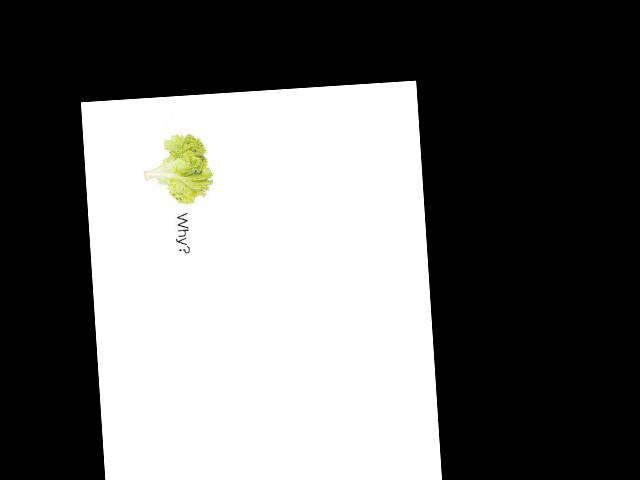lettuce: (135, 128, 223, 247)
